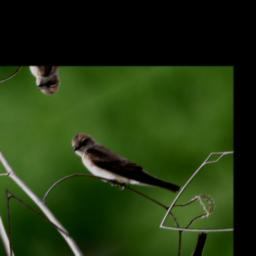Swallow: (66, 104, 185, 224)
